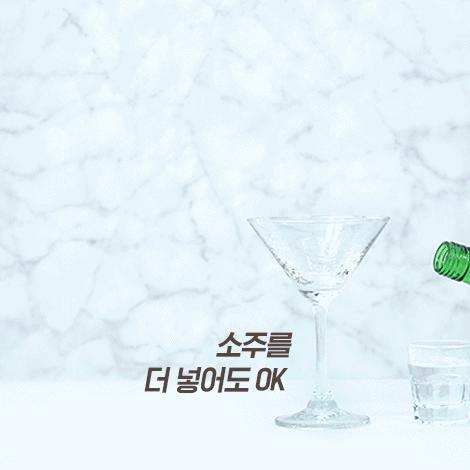soju: (427, 229, 470, 295)
